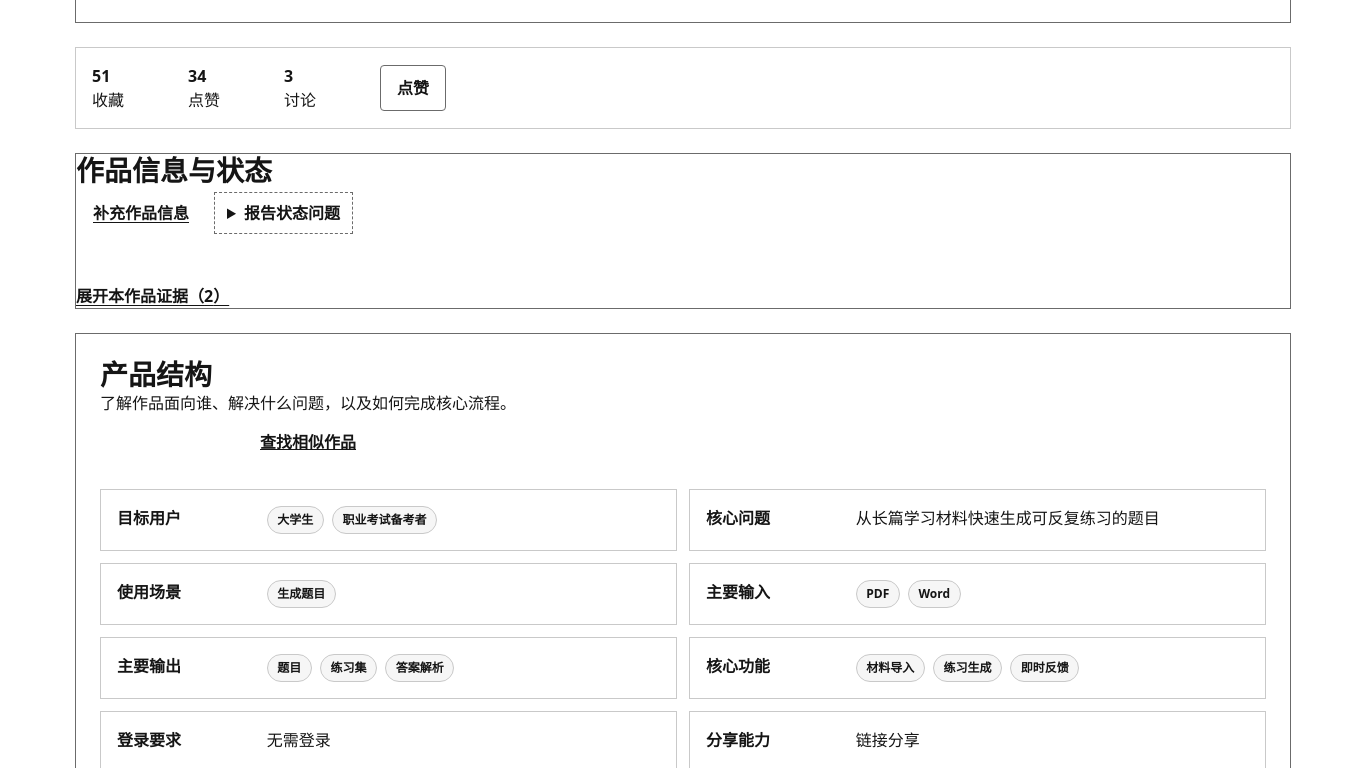
Test: ProjectDetailPage structured profile › uses one consolidated project evidence entry instead of field-level sources
(page scrolled)
Click the button "展开本作品证据（2）".
click(153, 296)  # box [76,284,229,308]
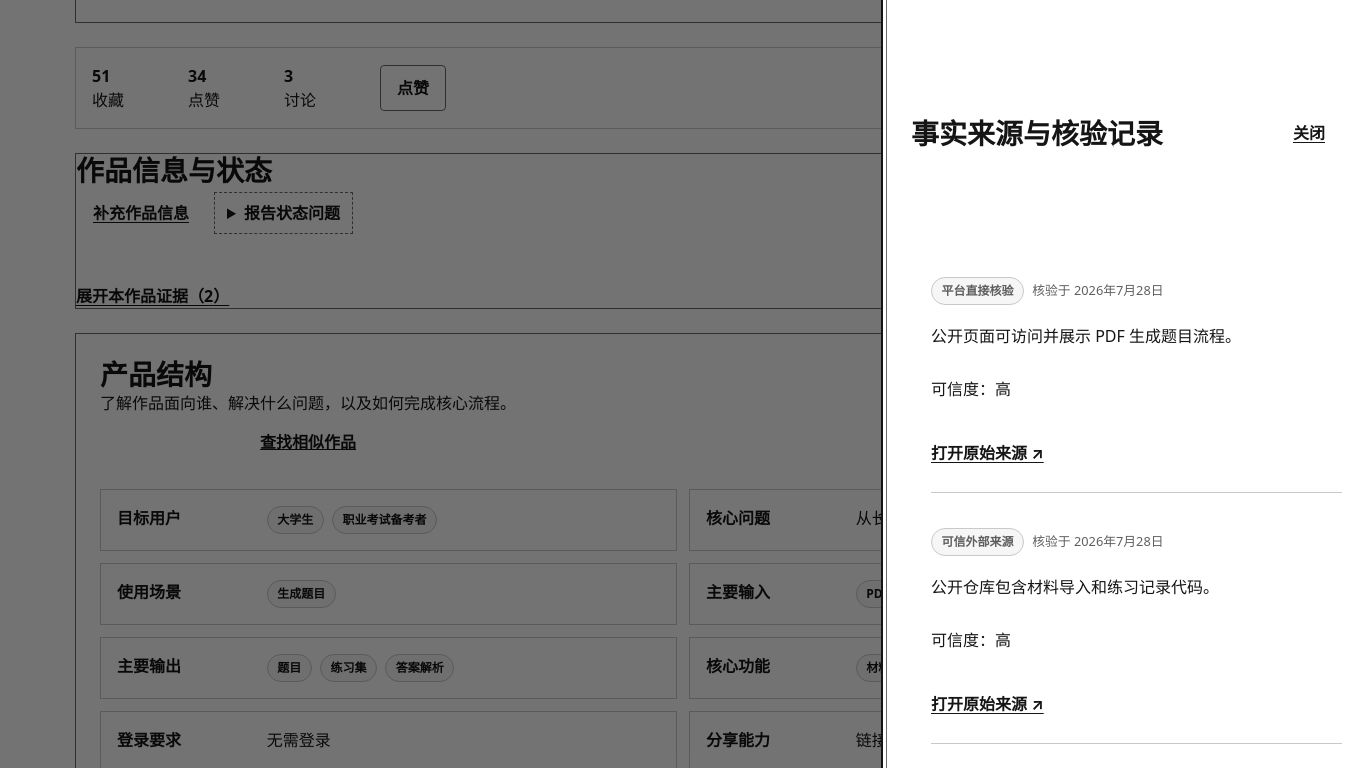
expect the dialog "事实来源与核验记录" is shown: met, box [886,0,1365,767]
expect the text "公开页面可访问并展示 PDF 生成题目流程。" is shown: met, box [931,324,1241,346]
